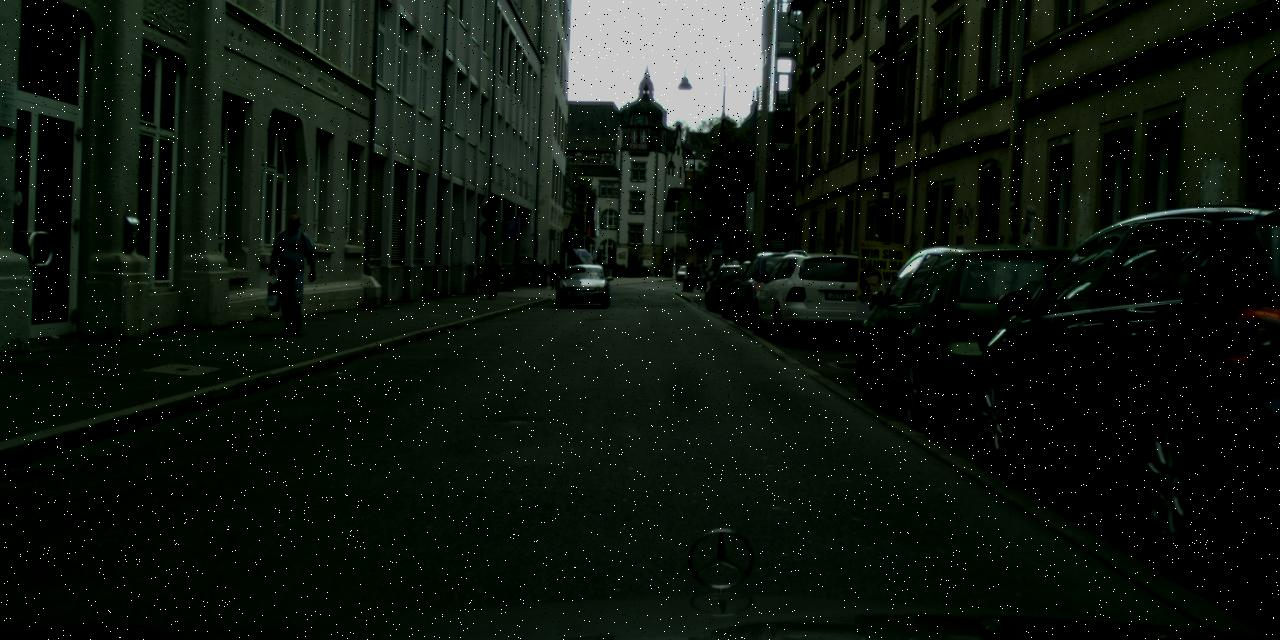ped: (267, 214, 317, 336), (683, 262, 714, 292), (482, 255, 500, 298), (538, 258, 550, 288), (548, 259, 560, 289), (719, 255, 742, 266), (532, 262, 542, 286)
